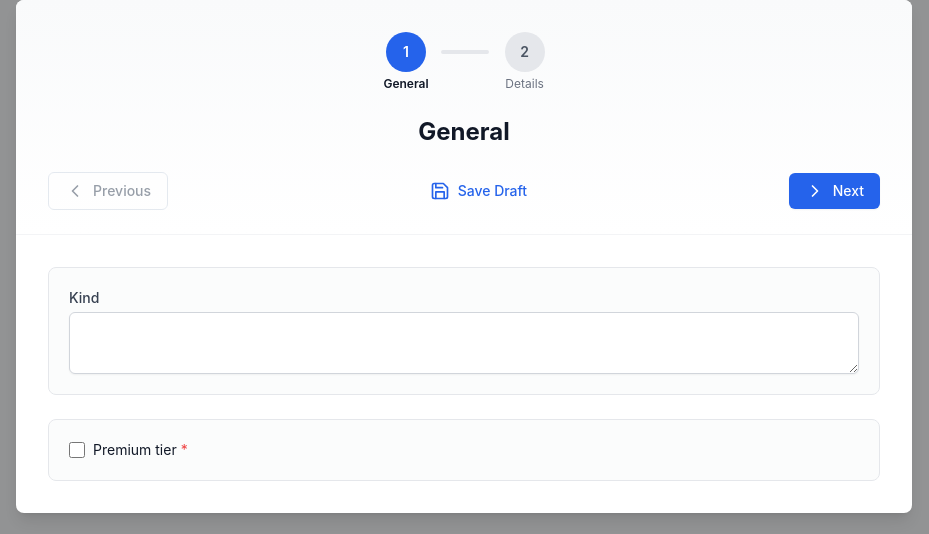
Scenario: FormWizard required Boolean left untouched (KNG-53) › returning to the previous step keeps the explicit false
The width and height of the screenshot is (929, 534).
Expected: the checkbox is shown, [69,442,85,458]
What coordinates should you click on to do the following:
click the button "Next"
I would click on:
 (834, 191)
Its box is [789,173,880,209].
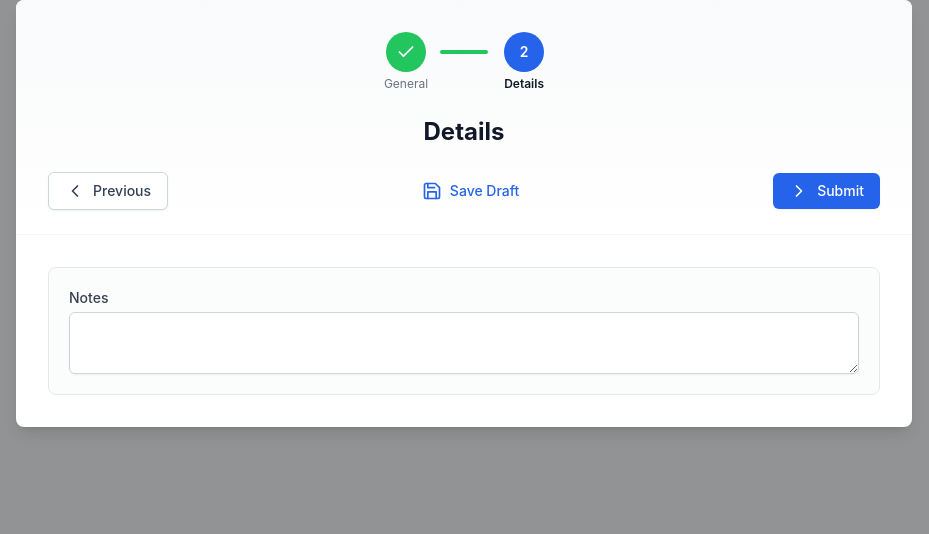
Expected: the button "Submit" is shown, [773,173,880,209]
What coordinates should you click on to do the following:
click the button "Previous"
I would click on:
 (108, 191)
Its box is [48,172,168,210].
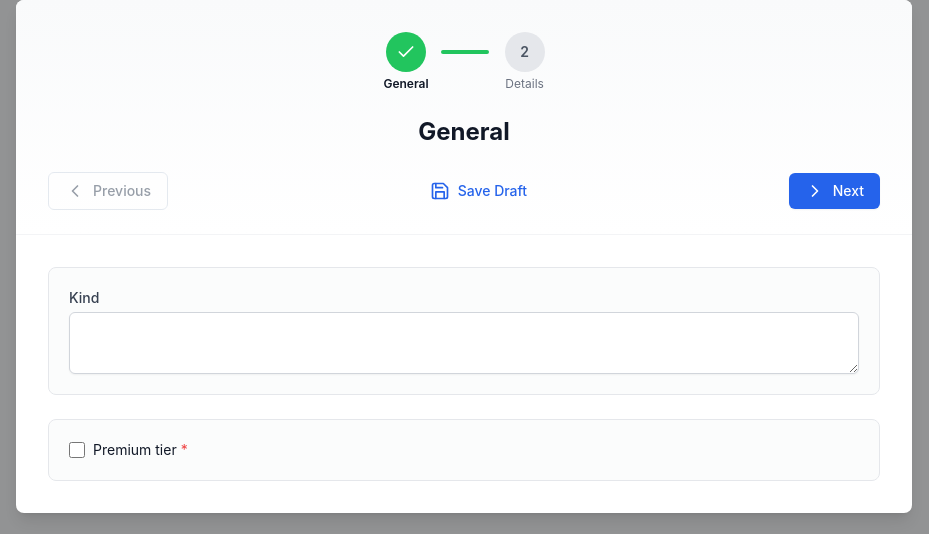
Expected: the checkbox is not checked, [69,442,85,458]
What coordinates should you click on to do the following:
click the button "Next"
I would click on:
 (834, 191)
Its box is [789,173,880,209].
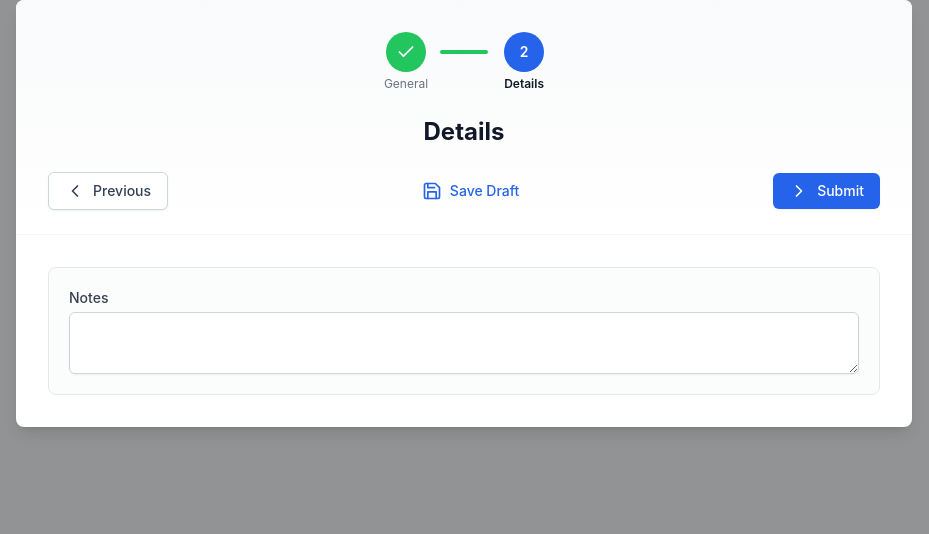
Expected: the button "Submit" is shown, [773,173,880,209]
